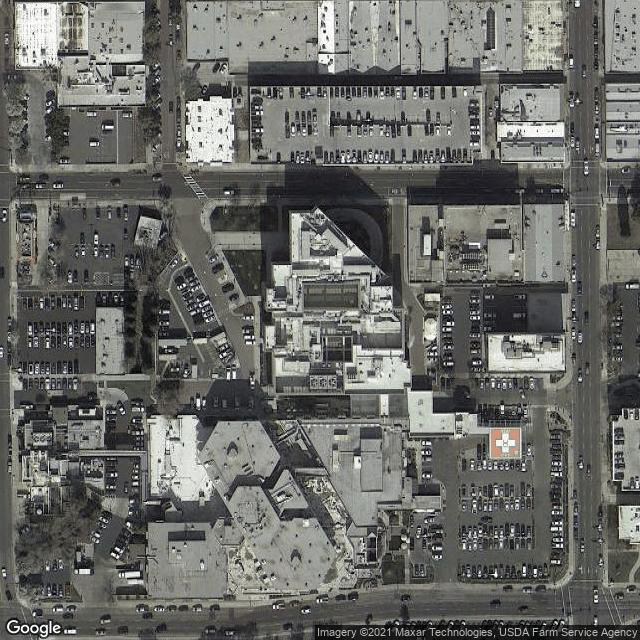Helipad: (487, 425, 523, 461)
